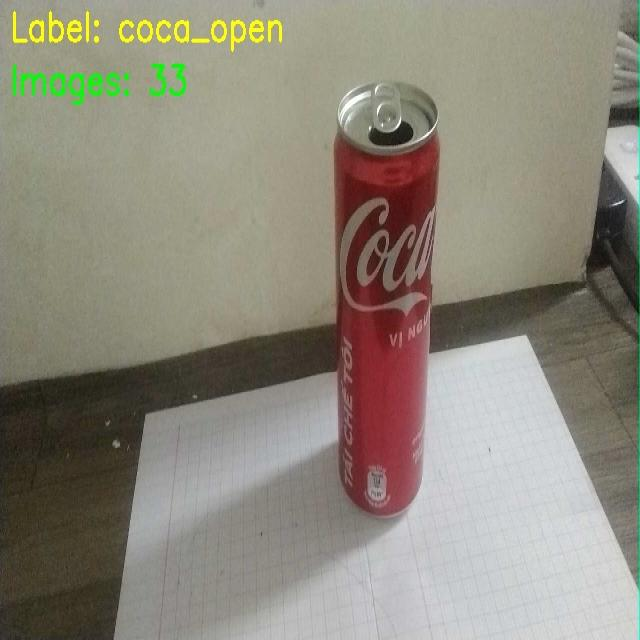Coca_open: (312, 71, 462, 514)
